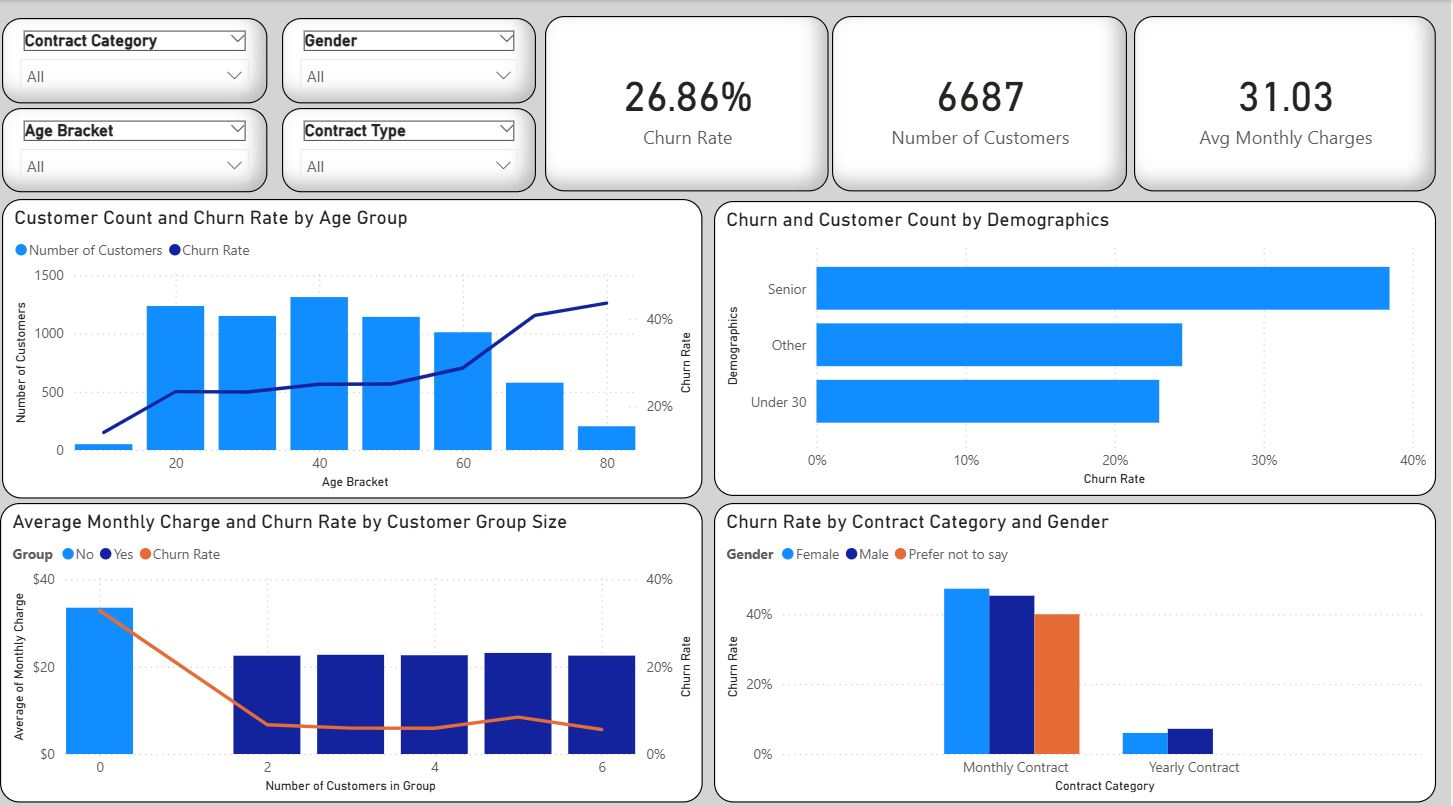

What the dashboard file says about the page in this screenshot:
{"tool":"powerbi","page":{"name":"Customer Demographics & Behavior","canvas":[1280,720],"ordinal":1},"visuals":[{"type":"card","fields":{"Values":["measure table.Churn Rate"]},"box":[485,14.5,248.9,154.2],"z":0},{"type":"card","fields":{"Values":["measure table.Avg Monthly Charges"]},"box":[1002.2,14.5,265,154.2],"z":1000},{"type":"slicer","fields":{"Values":["Databel - Data.Contract Category"]},"box":[8,16.1,232.9,75.5],"z":2000},{"type":"card","fields":{"Values":["measure table.Number of Customers"]},"box":[736.7,13.9,258.5,154.3],"z":3000},{"type":"slicer","fields":{"Values":["Databel - Data.Age Bracket"]},"box":[8,94.8,232.9,73.9],"z":4000},{"type":"slicer","fields":{"Values":["Databel - Data.Contract Type"]},"box":[253.8,94.8,223.2,73.9],"z":5000},{"type":"lineStackedColumnComboChart","title":"Customer Count and Churn Rate by Age Group","fields":{"Y":["measure table.Number of Customers"],"Y2":["measure table.Churn Rate"],"Category":["Databel - Data.Age Bracket"]},"box":[8,175.1,615.1,263.4],"z":6000},{"type":"lineStackedColumnComboChart","title":"Average Monthly Charge and Churn Rate by Customer Group Size","fields":{"Category":["Databel - Data.Number of Customers in Group"],"Y":["Avg(Databel - Data.Monthly Charge)"],"Series":["Databel - Data.Group"],"Y2":["measure table.Churn Rate"]},"box":[6.4,441.7,616.7,263.4],"z":7000},{"type":"barChart","title":"Churn and Customer Count by Demographics","fields":{"Category":["Databel - Data.Demographics"],"Y":["measure table.Churn Rate"]},"box":[632.8,176.7,634.4,258.6],"z":8000},{"type":"clusteredColumnChart","fields":{"Series":["Databel - Data.Gender"],"Y":["measure table.Churn Rate"],"Category":["Databel - Data.Contract Category"]},"box":[632.8,441.7,634.4,263.4],"z":9000},{"type":"slicer","fields":{"Values":["Databel - Data.Gender"]},"box":[253.8,16.1,223.2,75.5],"z":10000}]}

Visuals, with their boxes in screenshot pixels (x1, y1, x2, y2), scaled from the page's 1280x720 canvas onto the 1453x806 screenshot:
card - measure table.Churn Rate: [x1=551, y1=16, x2=833, y2=189]
card - measure table.Avg Monthly Charges: [x1=1138, y1=16, x2=1438, y2=189]
slicer - Databel - Data.Contract Category: [x1=9, y1=18, x2=273, y2=103]
card - measure table.Number of Customers: [x1=836, y1=16, x2=1130, y2=188]
slicer - Databel - Data.Age Bracket: [x1=9, y1=106, x2=273, y2=189]
slicer - Databel - Data.Contract Type: [x1=288, y1=106, x2=541, y2=189]
"Customer Count and Churn Rate by Age Group" lineStackedColumnComboChart: [x1=9, y1=196, x2=707, y2=491]
"Average Monthly Charge and Churn Rate by Customer Group Size" lineStackedColumnComboChart: [x1=7, y1=494, x2=707, y2=789]
"Churn and Customer Count by Demographics" barChart: [x1=718, y1=198, x2=1438, y2=487]
clusteredColumnChart - Databel - Data.Gender x measure table.Churn Rate: [x1=718, y1=494, x2=1438, y2=789]
slicer - Databel - Data.Gender: [x1=288, y1=18, x2=541, y2=103]
